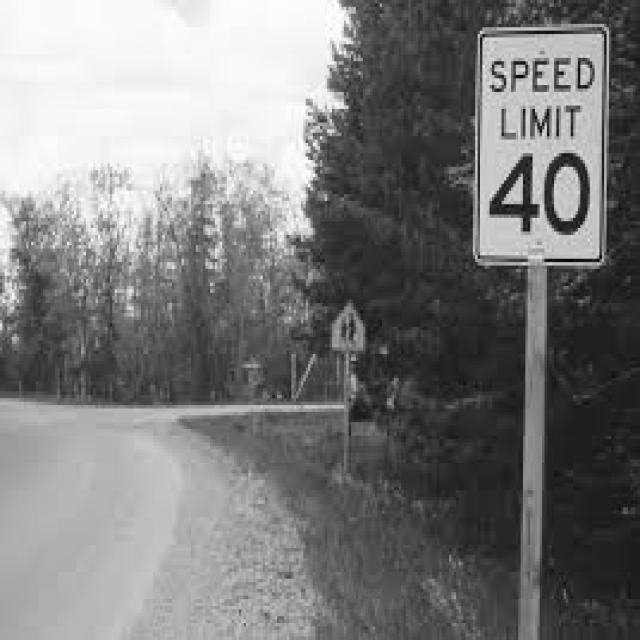speedLimit40: (478, 26, 606, 267)
